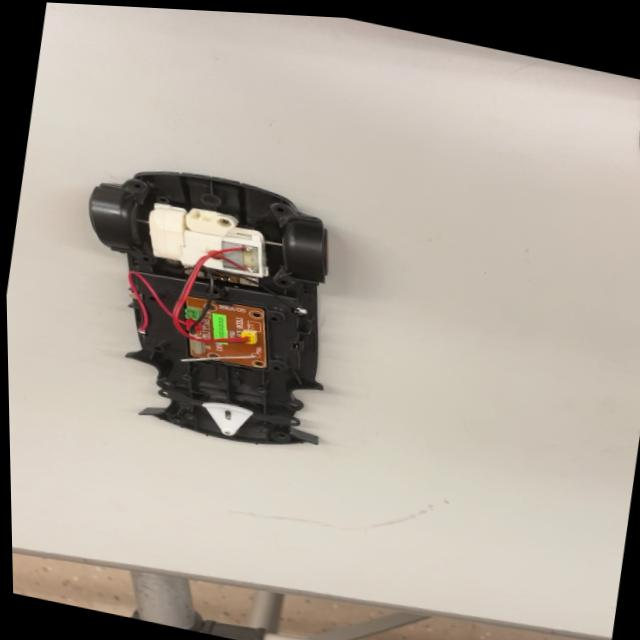Chassis: (76, 157, 347, 464)
